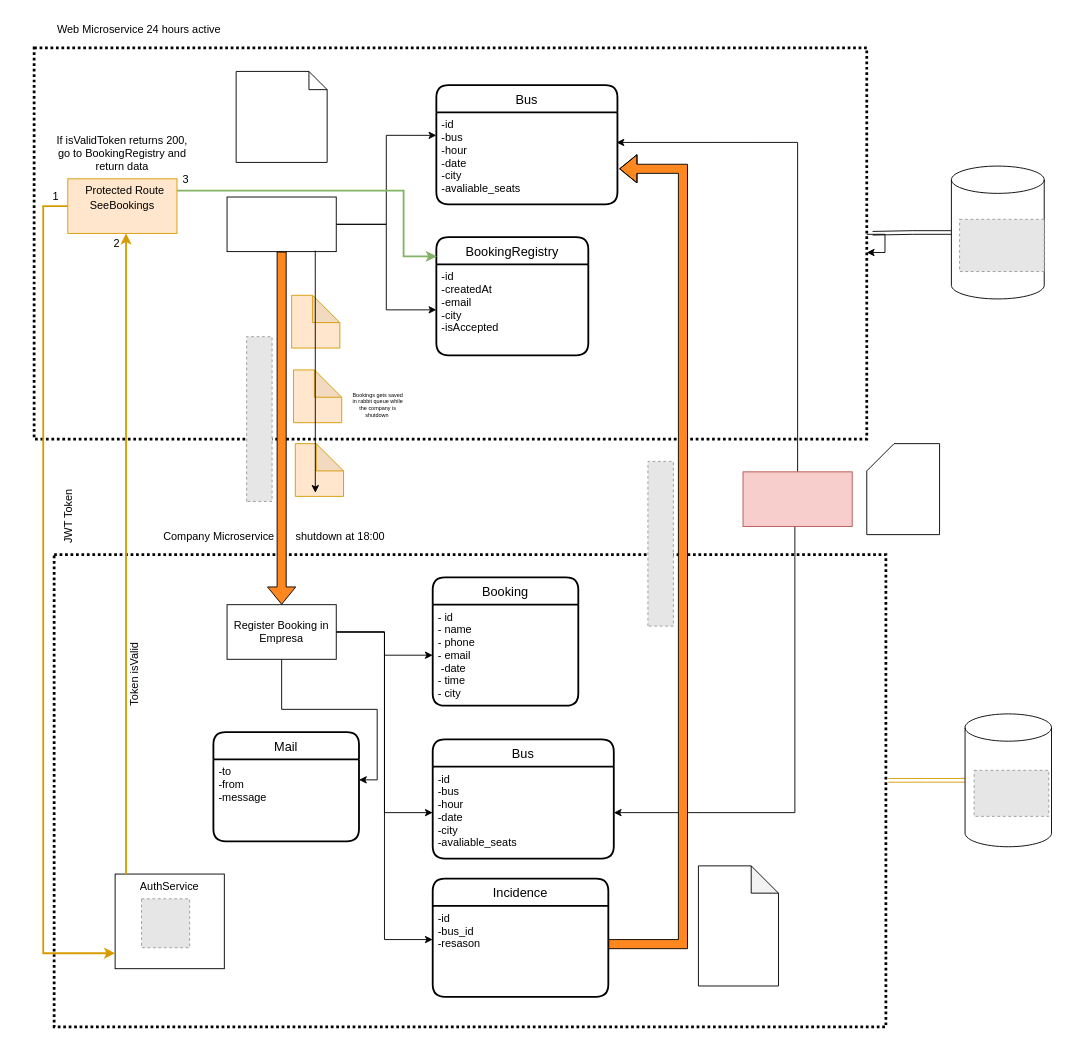
This 1067x1044 diagram has some shape labels left out. Grey dashed boxes stand in for pictures. Each missing label, with the centre of its shape:
"/registerbus" belongs at (797,498).
"Booking action" belongs at (281,224).
"Form city name phone email date time" belongs at (281,116).
"If there's a incidence send a email to the customer and cancel the bus seats" belongs at (738,925).
"Register the bus in both endpoints" belongs at (903,489).
